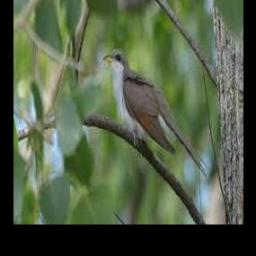Cuckoo: (102, 47, 209, 179)
